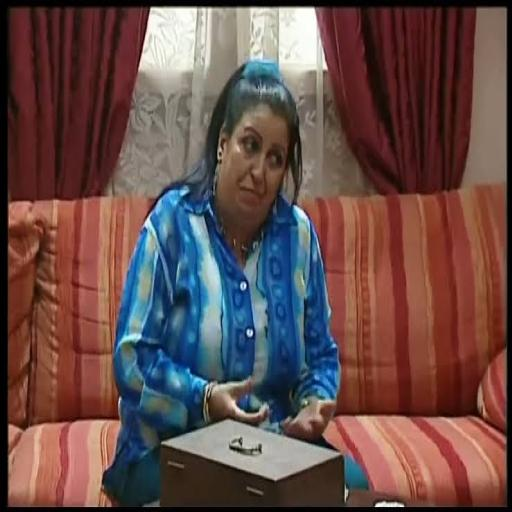jannet: (216, 101, 290, 223)
